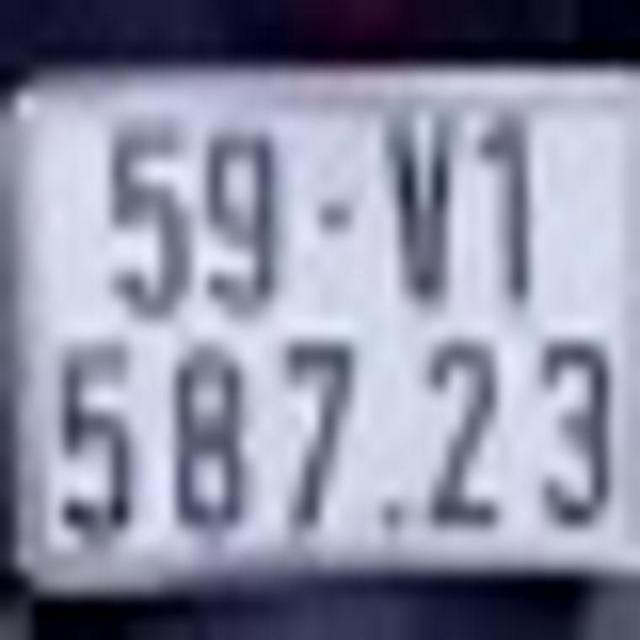1: (482, 102, 542, 300)
2: (419, 330, 512, 533)
3: (532, 327, 615, 531)
5: (53, 338, 141, 543), (110, 127, 192, 316)
7: (280, 332, 353, 532)
8: (177, 343, 245, 532)
9: (199, 130, 270, 317)
V: (392, 102, 459, 304)
